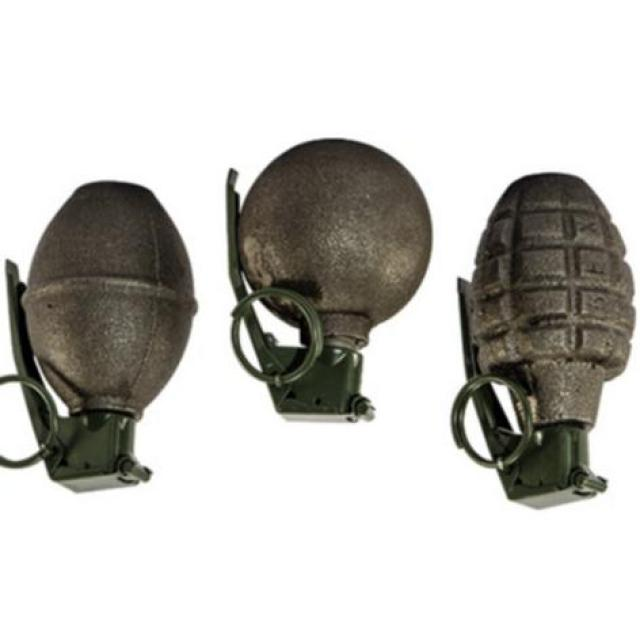grenade: (453, 171, 640, 510), (1, 180, 202, 490), (227, 140, 435, 422)
